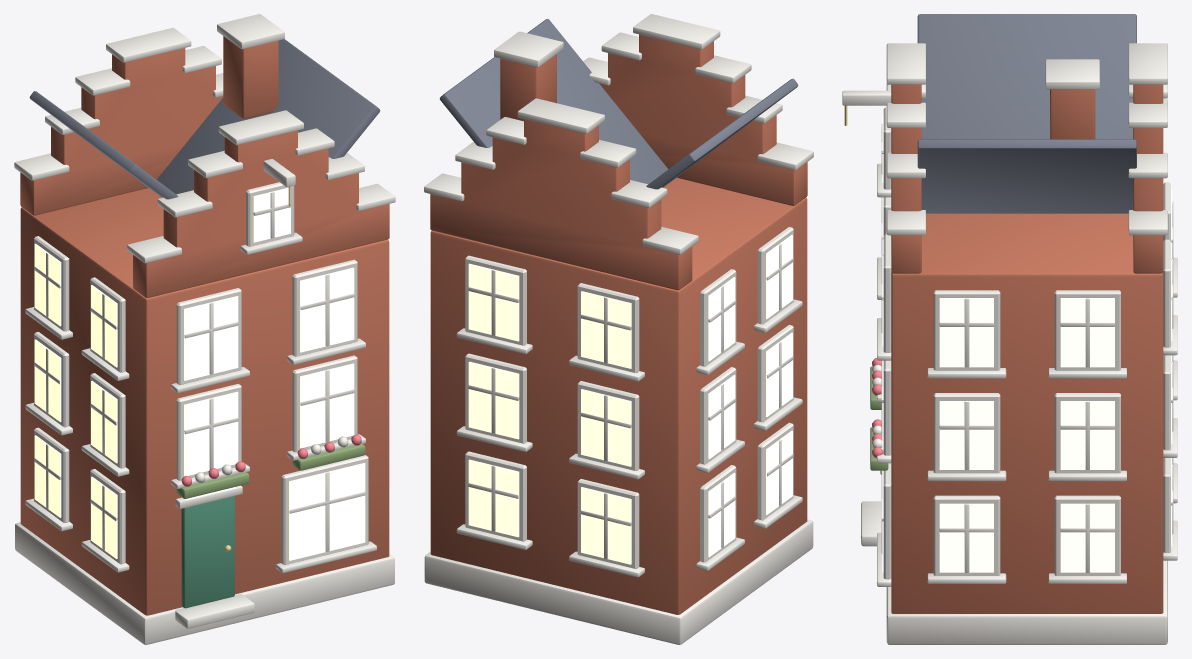
File: house_a.glb
3 renders of one model, left to right at view 1: azimuth 30°, elevation 25°; view 2: azimuth 150°, elevation 25°; view 3: azimuth 270°, elevation 25°, orthographic. The views are drawn at different scales.
Parts seen in each view (by area): view 1: house_a; view 2: house_a; view 3: house_a.
Part boxes in pixels (box(x1,y1,x2,y2)): house_a: box(14, 14, 395, 644); house_a: box(424, 14, 813, 644); house_a: box(842, 14, 1177, 644).
Bounding box in the file's own units: 2.19 × 3.98 × 2.22.
